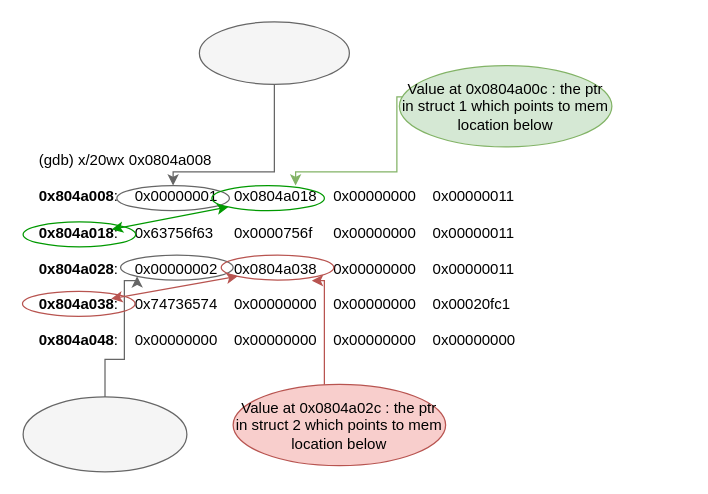
Image size: 708x494. Some labels were removed from this diagram. The shapes that lost their labels are listed below. From the top down, each one's centre as x and y in pixels, then its label:
At [273,52]: "Value at 0x0804a008 : 0x1".
At [104,434]: "Value at 0x0804a028 : 0x2 (start of our 2nd struct)".
